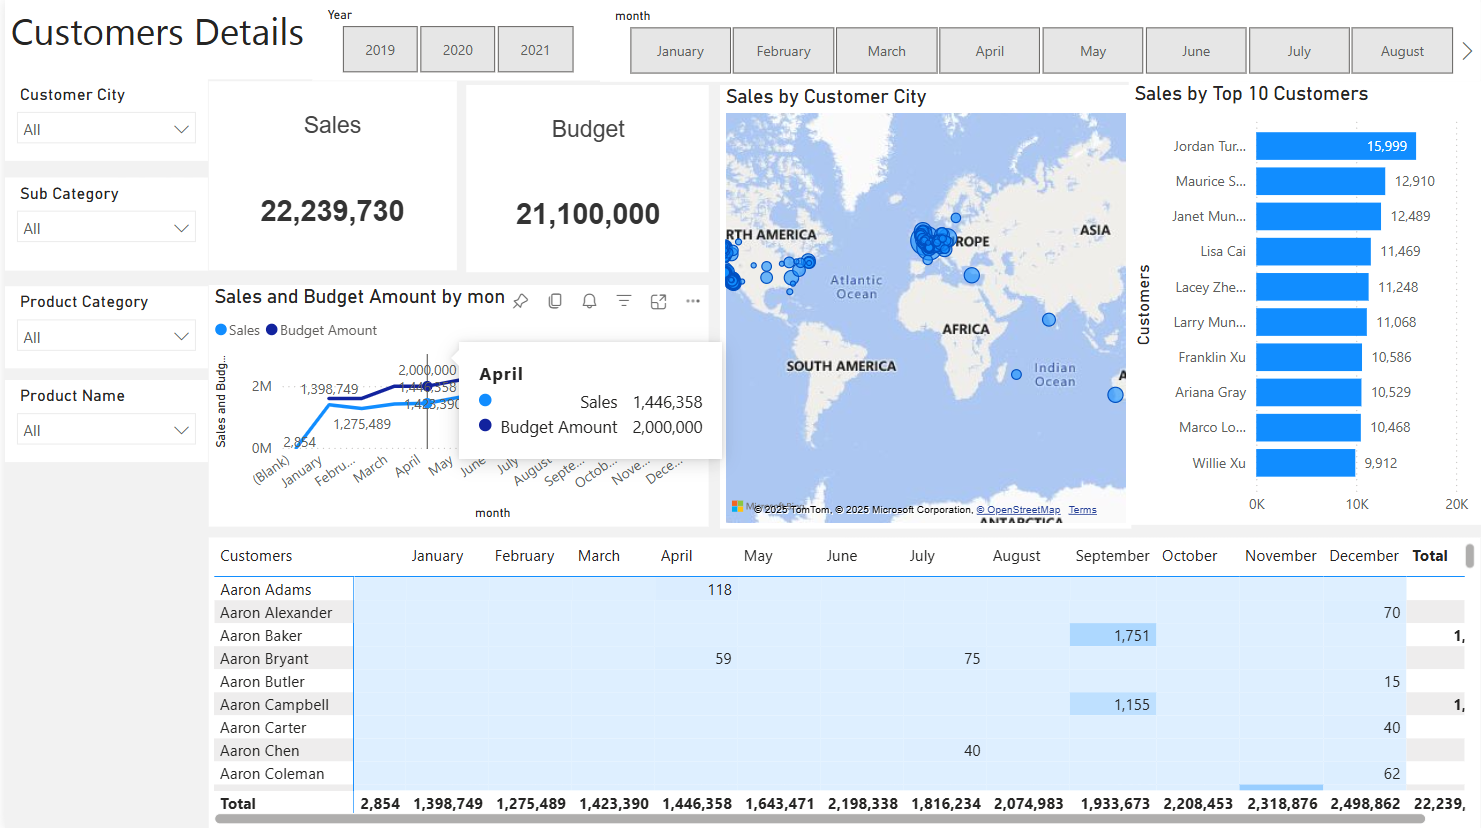

The page's visual inventory and layout, read from the dashboard file:
{"tool":"powerbi","page":{"name":"Customers Details","canvas":[1280,720],"ordinal":1},"visuals":[{"type":"textbox","box":[0,0,1280.3,68.6],"z":0},{"type":"slicer","fields":{"Values":["Dim Customer.Customer City"]},"box":[0,68.6,175.6,71.4],"z":1000},{"type":"slicer","fields":{"Values":["Dim_Product.Sub Category"]},"box":[0,153.7,175.6,81],"z":2000},{"type":"slicer","fields":{"Values":["Dim_Product.Product Category"]},"box":[0,248.4,175.6,71.4],"z":3000},{"type":"slicer","fields":{"Values":["Dim_Product.Product Name"]},"box":[0,329.3,175.6,71.4],"z":4000},{"type":"slicer","fields":{"Values":["Dim_calendar.Year"]},"box":[266.3,1.2,250,68.6],"z":5000},{"type":"slicer","fields":{"Values":["Dim_calendar.month"]},"box":[516.2,2.5,763.8,68.8],"z":6000},{"type":"BBED0A4D4D8D44CE93CF2DAFADEE466C","fields":{"actual":["Key mesures.Sales"]},"box":[176.7,70.9,215.1,164],"z":7000},{"type":"lineChart","fields":{"Y":["Key mesures.Sales","Key mesures.Budget Amount"],"Category":["Dim_calendar.month"]},"box":[176.7,247.7,433.7,209.3],"z":8000},{"type":"barChart","title":"Sales by Top 10 Customers","fields":{"Category":["Dim Customer.Full Name"],"Y":["Key mesures.Sales"]},"box":[974.4,70.9,305.8,384.9],"z":9000},{"type":"map","title":"Sales by Customer City","fields":{"Size":["Key mesures.Sales"],"Category":["Dim Customer.Customer City"]},"box":[619.8,73.3,357,384.9],"z":10000},{"type":"pivotTable","fields":{"Rows":["Dim Customer.Customers"],"Values":["Key mesures.Sales"],"Columns":["Dim_calendar.month"]},"box":[176.7,466.3,1103.5,253.5],"z":11000},{"type":"BBED0A4D4D8D44CE93CF2DAFADEE466C","fields":{"actual":["Key mesures.Budget Amount"]},"box":[400,73.3,210.5,162.8],"z":11001}]}

Visuals, with their boxes in screenshot pixels (x1, y1, x2, y2), scaled from the page's 1280x720 canvas onto the 1481x828 screenshot:
textbox: select_region(0, 0, 1480, 79)
slicer - Dim Customer.Customer City: select_region(0, 79, 203, 161)
slicer - Dim_Product.Sub Category: select_region(0, 177, 203, 270)
slicer - Dim_Product.Product Category: select_region(0, 286, 203, 368)
slicer - Dim_Product.Product Name: select_region(0, 379, 203, 461)
slicer - Dim_calendar.Year: select_region(308, 1, 597, 80)
slicer - Dim_calendar.month: select_region(597, 3, 1480, 82)
BBED0A4D4D8D44CE93CF2DAFADEE466C - Key mesures.Sales: select_region(204, 82, 453, 270)
lineChart - Key mesures.Sales x Key mesures.Budget Amount: select_region(204, 285, 706, 526)
"Sales by Top 10 Customers" barChart: select_region(1127, 82, 1480, 524)
"Sales by Customer City" map: select_region(717, 84, 1130, 527)
pivotTable - Dim Customer.Customers x Key mesures.Sales: select_region(204, 536, 1480, 827)
BBED0A4D4D8D44CE93CF2DAFADEE466C - Key mesures.Budget Amount: select_region(463, 84, 706, 272)
